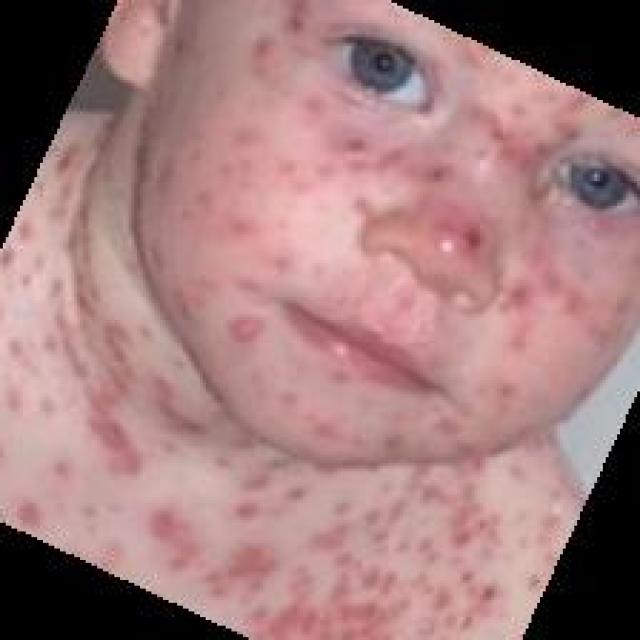others: (99, 17, 590, 617)
